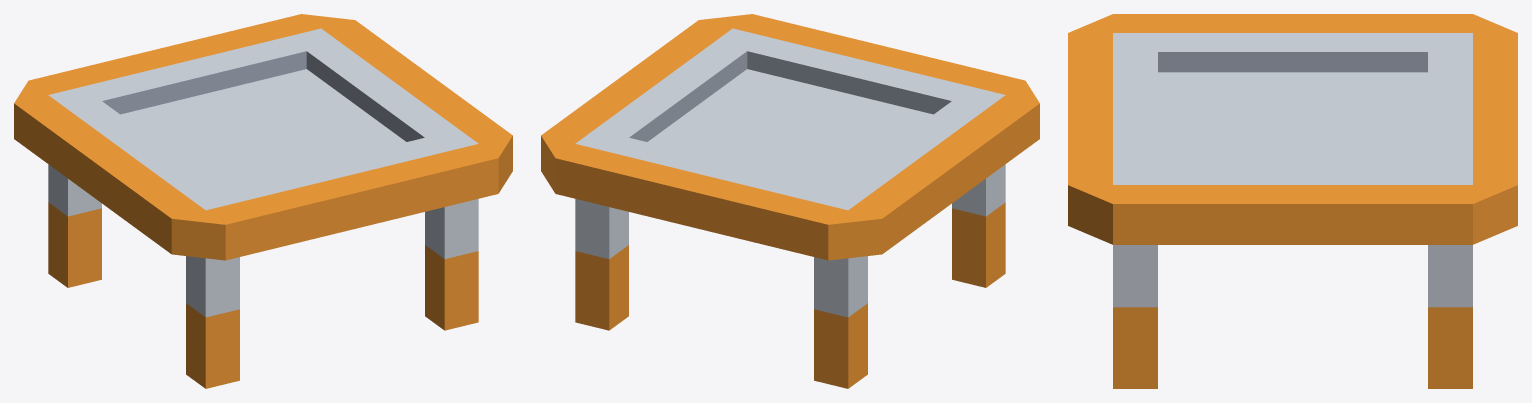
Rendered from platform_low.obj.
3 views of the same model, side by side, from view 1: azimuth 30°, elevation 25°; view 2: azimuth 150°, elevation 25°; view 3: azimuth 270°, elevation 25° (orthographic). The views are drawn at different scales.
Visible parts, largest first — view 1: platform_low; view 2: platform_low; view 3: platform_low.
Boxes of the visible parts, x1=… form: platform_low: x1=14, y1=14, x2=512, y2=388; platform_low: x1=541, y1=14, x2=1039, y2=388; platform_low: x1=1068, y1=14, x2=1517, y2=388.
Bounding box in the file's own units: 1 × 0.5 × 1.
